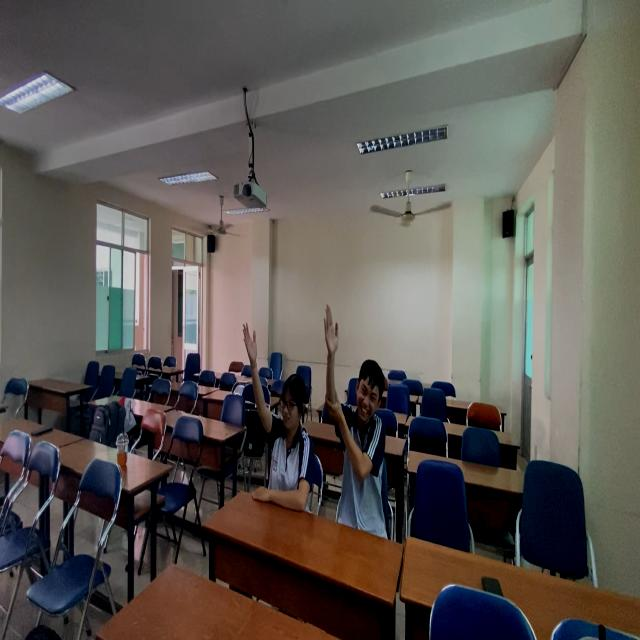raise_hand: (323, 302, 395, 534), (240, 318, 314, 519)
